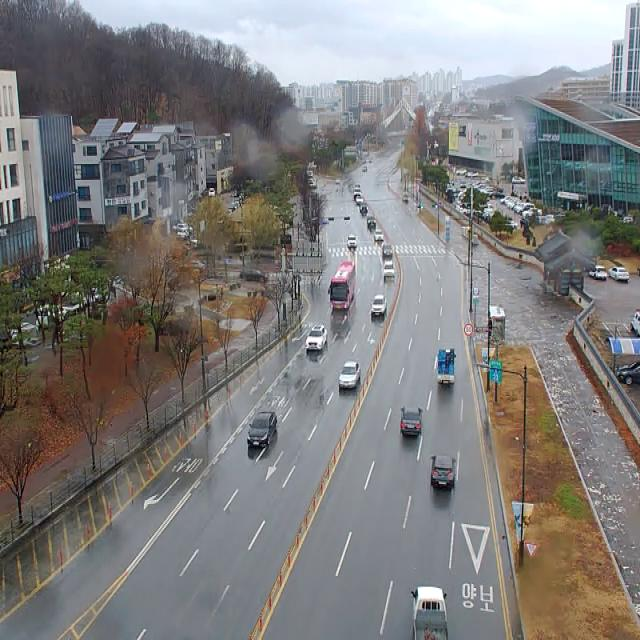Bus: (328, 262, 356, 309)
Car: (247, 412, 277, 446), (431, 454, 456, 488), (400, 406, 423, 435), (339, 361, 360, 390), (618, 360, 640, 386), (306, 325, 327, 350), (240, 268, 268, 282), (371, 295, 387, 316), (608, 267, 629, 281), (588, 266, 607, 280), (384, 261, 394, 277), (177, 226, 189, 238), (383, 244, 393, 258), (374, 229, 384, 241), (367, 216, 376, 229), (348, 235, 356, 248), (360, 202, 368, 214), (209, 187, 215, 197), (357, 197, 363, 204), (637, 265, 640, 276)
Truck: (410, 586, 448, 640), (437, 348, 456, 384), (630, 309, 640, 336)
